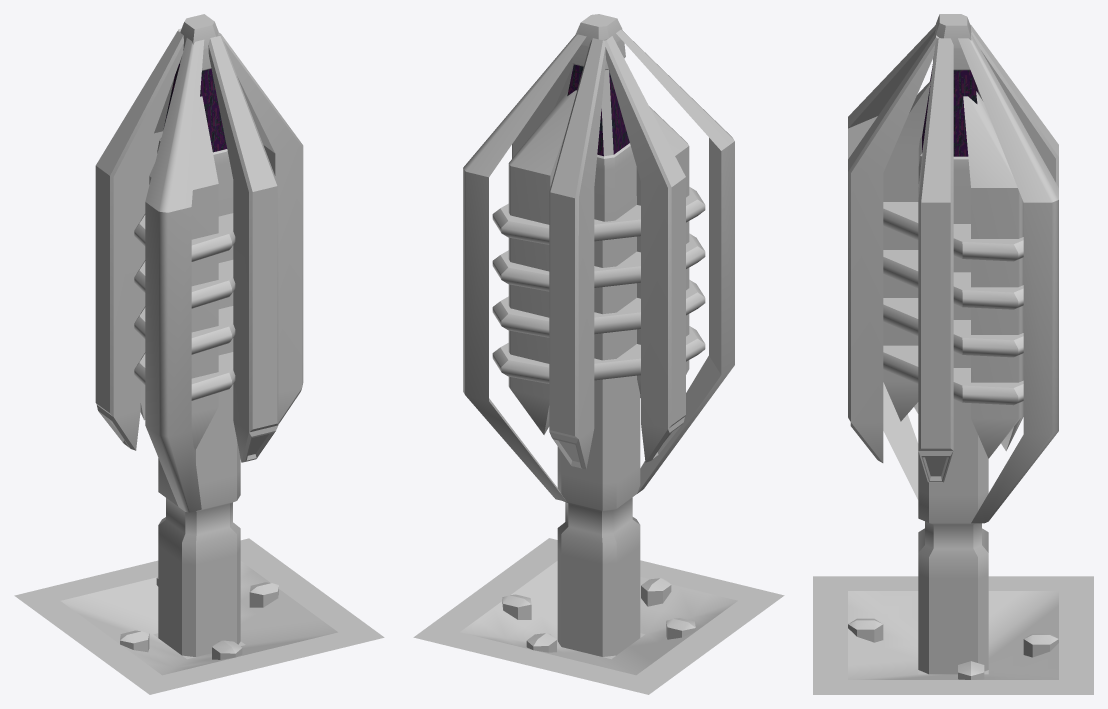
Rendered from cbtowe02.FBX.
The picture shows the model from 3 angles, left to right: view 1: azimuth 30°, elevation 25°; view 2: azimuth 150°, elevation 25°; view 3: azimuth 270°, elevation 25°; orthographic projection. The views are drawn at different scales.
Visible parts, largest first — view 1: spikes, terrain, cbtowe02, blue_glows, tower2, core; view 2: spikes, terrain, blue_glows, cbtowe02, core, tower2; view 3: spikes, terrain, blue_glows, cbtowe02, tower2, core.
Boxes of the visible parts, bbox=[...] form: spikes: bbox=[95, 14, 303, 512]; terrain: bbox=[14, 538, 384, 694]; cbtowe02: bbox=[120, 546, 278, 659]; blue_glows: bbox=[134, 213, 235, 400]; tower2: bbox=[158, 465, 240, 564]; core: bbox=[158, 245, 240, 483]; spikes: bbox=[463, 14, 734, 501]; terrain: bbox=[413, 538, 784, 694]; blue_glows: bbox=[492, 187, 705, 383]; cbtowe02: bbox=[502, 546, 695, 659]; core: bbox=[557, 236, 640, 483]; tower2: bbox=[557, 465, 640, 564]; spikes: bbox=[848, 14, 1058, 523]; terrain: bbox=[813, 576, 1093, 694]; blue_glows: bbox=[883, 202, 1023, 405]; cbtowe02: bbox=[848, 574, 1058, 679]; tower2: bbox=[918, 491, 988, 578]; core: bbox=[918, 255, 988, 495].
Bounding box in the file's own units: 64 × 161 × 64.
